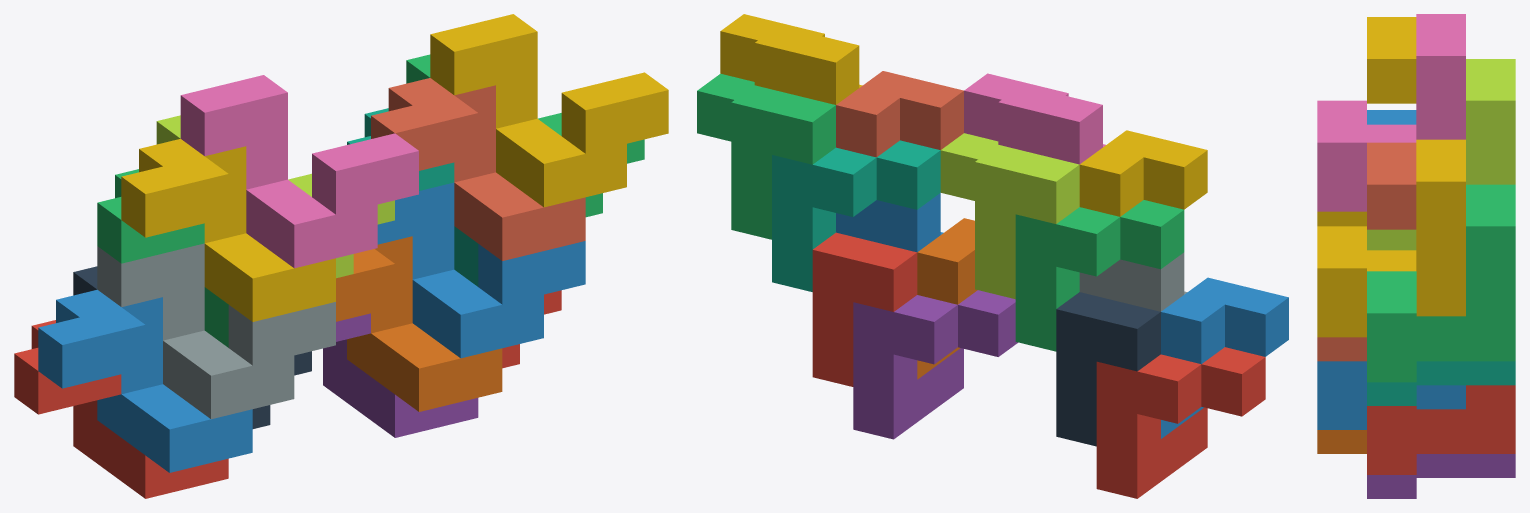
File: tiling.obj
The picture shows the model from 3 angles, left to right: view 1: azimuth 30°, elevation 25°; view 2: azimuth 150°, elevation 25°; view 3: azimuth 270°, elevation 25°; orthographic projection. The views are drawn at different scales.
Parts seen in each view (by area): view 1: copy_2_domain_8, copy_2_domain_4, copy_2_domain_2, copy_1_domain_2, copy_1_domain_4, copy_2_domain_6, copy_1_domain_8, copy_1_domain_6, copy_1_domain_1, copy_1_domain_5, copy_1_domain_3, copy_1_domain_7 (+4 smaller); view 2: copy_1_domain_1, copy_1_domain_5, copy_1_domain_3, copy_1_domain_7, copy_2_domain_3, copy_2_domain_7, copy_2_domain_5, copy_2_domain_1, copy_2_domain_8, copy_2_domain_4, copy_1_domain_2, copy_1_domain_4 (+4 smaller); view 3: copy_2_domain_7, copy_2_domain_8, copy_2_domain_4, copy_2_domain_5, copy_2_domain_3, copy_1_domain_8, copy_1_domain_4, copy_2_domain_6, copy_1_domain_7, copy_1_domain_5, copy_1_domain_6, copy_1_domain_2.
Boxes of the visible parts, <box> form: copy_2_domain_8: <box>430,14,668,207</box>; copy_2_domain_4: <box>180,75,418,268</box>; copy_2_domain_2: <box>97,243,335,419</box>; copy_1_domain_2: <box>38,289,252,472</box>; copy_1_domain_4: <box>121,139,335,321</box>; copy_2_domain_6: <box>377,182,585,358</box>; copy_1_domain_8: <box>371,78,585,260</box>; copy_1_domain_6: <box>336,236,502,411</box>; copy_1_domain_1: <box>14,320,228,498</box>; copy_1_domain_5: <box>323,313,478,437</box>; copy_1_domain_3: <box>97,169,228,347</box>; copy_1_domain_7: <box>347,108,478,286</box>; copy_1_domain_1: <box>1096,347,1265,498</box>; copy_1_domain_5: <box>853,290,1018,439</box>; copy_1_domain_3: <box>1015,200,1184,351</box>; copy_1_domain_7: <box>772,140,940,291</box>; copy_2_domain_3: <box>940,133,1079,299</box>; copy_2_domain_7: <box>697,73,835,239</box>; copy_2_domain_5: <box>812,232,917,386</box>; copy_2_domain_1: <box>1056,292,1160,446</box>; copy_2_domain_8: <box>720,14,862,104</box>; copy_2_domain_4: <box>964,73,1105,164</box>; copy_1_domain_2: <box>1161,277,1288,438</box>; copy_1_domain_4: <box>1079,130,1207,216</box>; copy_2_domain_7: <box>1367,184,1515,382</box>; copy_2_domain_8: <box>1317,139,1465,337</box>; copy_2_domain_4: <box>1317,14,1465,211</box>; copy_2_domain_5: <box>1367,385,1515,474</box>; copy_2_domain_3: <box>1367,59,1515,250</box>; copy_1_domain_8: <box>1317,142,1416,361</box>; copy_1_domain_4: <box>1317,17,1416,226</box>; copy_2_domain_6: <box>1317,361,1465,429</box>; copy_1_domain_7: <box>1367,361,1515,405</box>; copy_1_domain_5: <box>1367,454,1515,498</box>; copy_1_domain_6: <box>1317,430,1366,453</box>; copy_1_domain_2: <box>1367,110,1416,124</box>.
Size of the model in its own units: 14 by 8 by 4.
